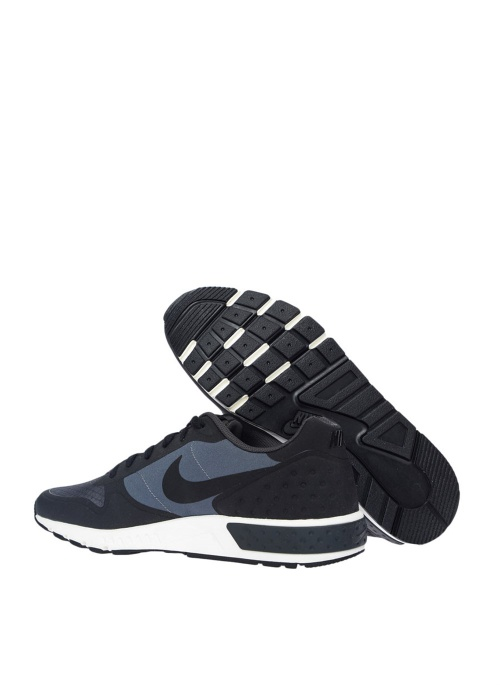nike: (160, 452, 286, 508)
